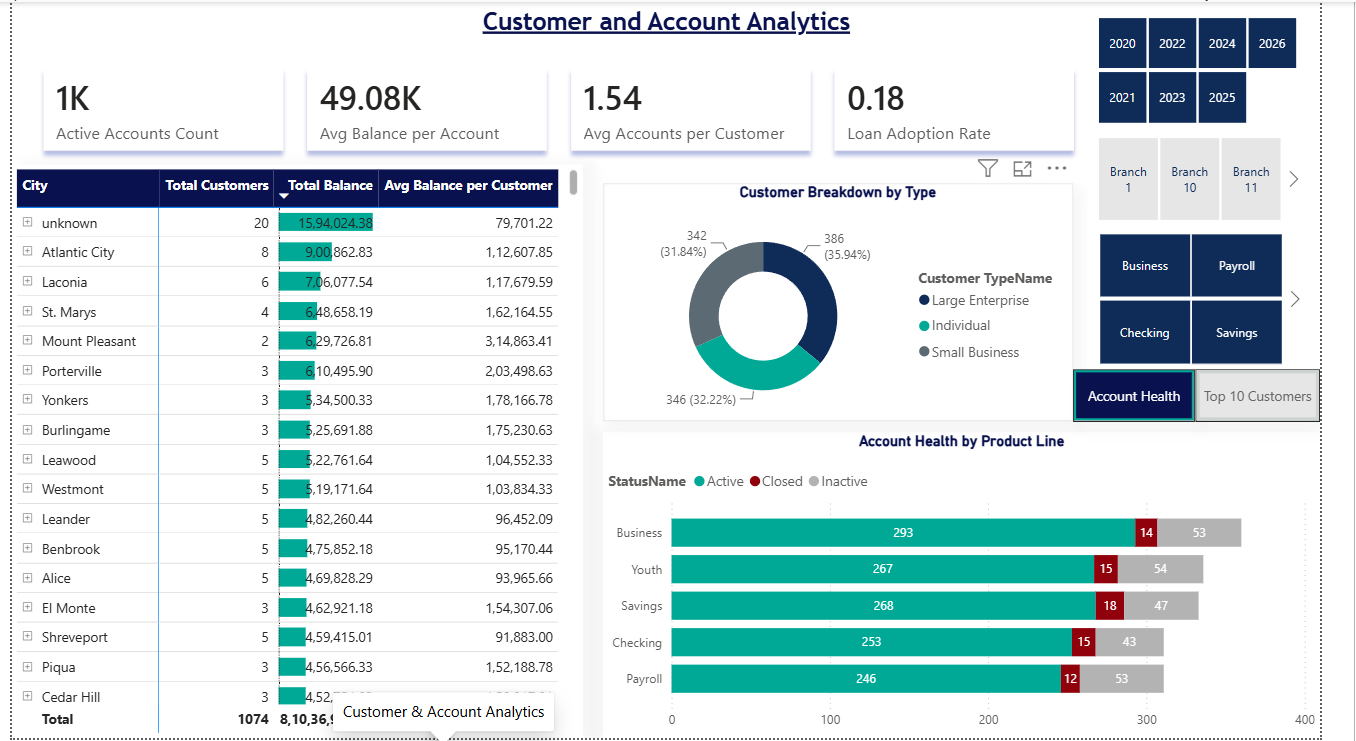

What the dashboard file says about the page in this screenshot:
{"tool":"powerbi","page":{"name":"Customer & Account Analytics","canvas":[1280,720],"ordinal":1},"visuals":[{"type":"donutChart","title":"Customer Breakdown by Type","fields":{"Category":["customer_types.TypeName"],"Y":["calculation.Total Customers"]},"box":[578.4,177.5,459.3,232.1],"z":0},{"type":"barChart","title":"Account Health by Product Line","fields":{"Category":["account_types.TypeName"],"Y":["calculation.Total Accounts"],"Series":["account_statuses.StatusName"]},"box":[578.4,420.8,701.3,299.2],"z":1000},{"type":"cardVisual","fields":{"Data":["calculation.Active Accounts Count","calculation.Avg Balance per Account","calculation.Avg Accounts per Customer","calculation.Loan Adoption Rate"]},"box":[0,32.9,1070.1,144],"z":2000},{"type":"textbox","box":[0,0,1280.3,65.8],"z":4000},{"type":"pivotTable","fields":{"Rows":["addresses.City","customers.FirstName"],"Values":["calculation.Total Customers","calculation.Total Balance","calculation.Avg Balance per Customer"]},"box":[0,158.8,558.6,561.1],"z":5000},{"type":"actionButton","title":"Account Health","box":[1037.7,360,119.2,50.9],"z":6000},{"type":"actionButton","title":"Top 10 customer","box":[1158.1,360,121.6,50.9],"z":7000},{"type":"slicer","fields":{"Values":["Calendar table.Year"]},"box":[1036.5,8.7,243.3,116.7],"z":8000},{"type":"slicer","fields":{"Values":["branches.BranchName"]},"box":[1036.5,125.4,228.4,94.3],"z":9000},{"type":"slicer","fields":{"Values":["account_types.TypeName"]},"box":[1037.7,219.7,228.4,140.3],"z":10000}]}

Visuals, with their boxes in screenshot pixels (x1, y1, x2, y2), scaled from the page's 1280x720 canvas onto the 1356x741 screenshot:
"Customer Breakdown by Type" donutChart: [x1=613, y1=183, x2=1099, y2=422]
"Account Health by Product Line" barChart: [x1=613, y1=433, x2=1355, y2=740]
cardVisual - calculation.Active Accounts Count x calculation.Avg Balance per Account: [x1=0, y1=34, x2=1134, y2=182]
textbox: [x1=0, y1=0, x2=1355, y2=68]
pivotTable - addresses.City x customers.FirstName: [x1=0, y1=163, x2=592, y2=740]
"Account Health" actionButton: [x1=1099, y1=370, x2=1226, y2=423]
"Top 10 customer" actionButton: [x1=1227, y1=370, x2=1355, y2=423]
slicer - Calendar table.Year: [x1=1098, y1=9, x2=1355, y2=129]
slicer - branches.BranchName: [x1=1098, y1=129, x2=1340, y2=226]
slicer - account_types.TypeName: [x1=1099, y1=226, x2=1341, y2=370]
